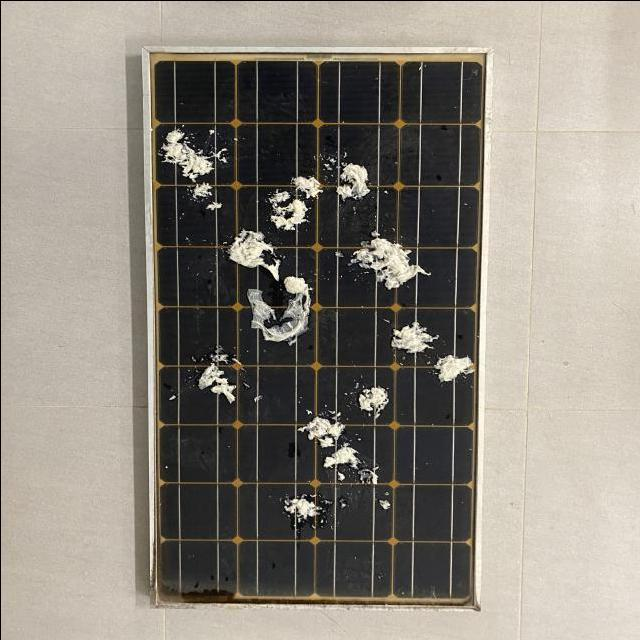Bird-drop: (222, 136, 439, 360), (279, 378, 398, 527), (167, 122, 234, 218), (195, 350, 241, 407), (431, 343, 476, 391)
